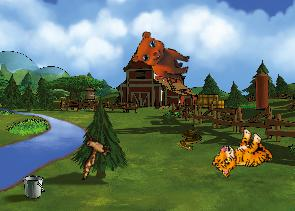bear: (129, 29, 195, 82)
eagle: (71, 127, 116, 180)
tiger: (208, 121, 277, 191)
